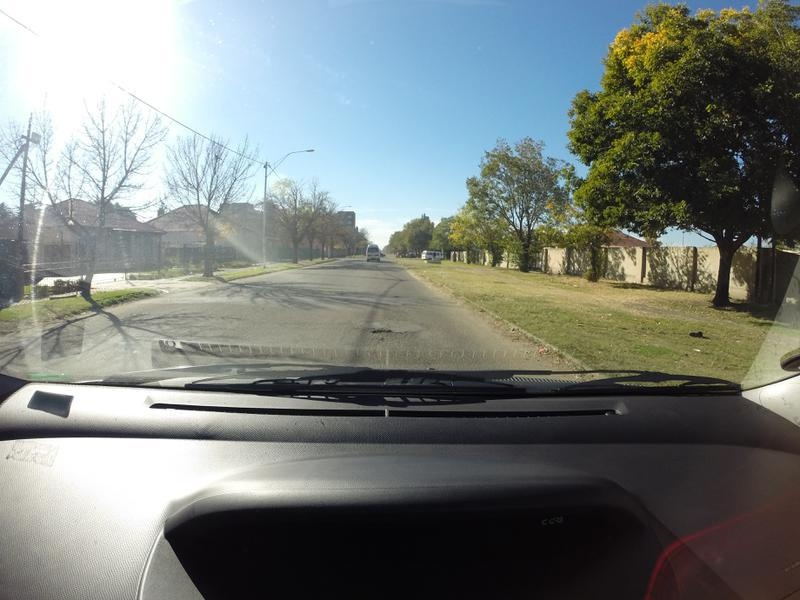pothole: (366, 329, 401, 337)
